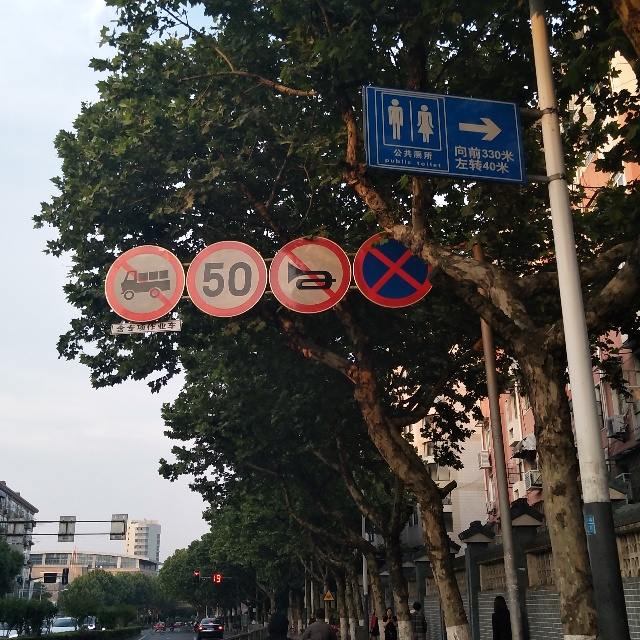nohonk: (278, 243, 344, 304)
stop: (366, 244, 429, 304)
